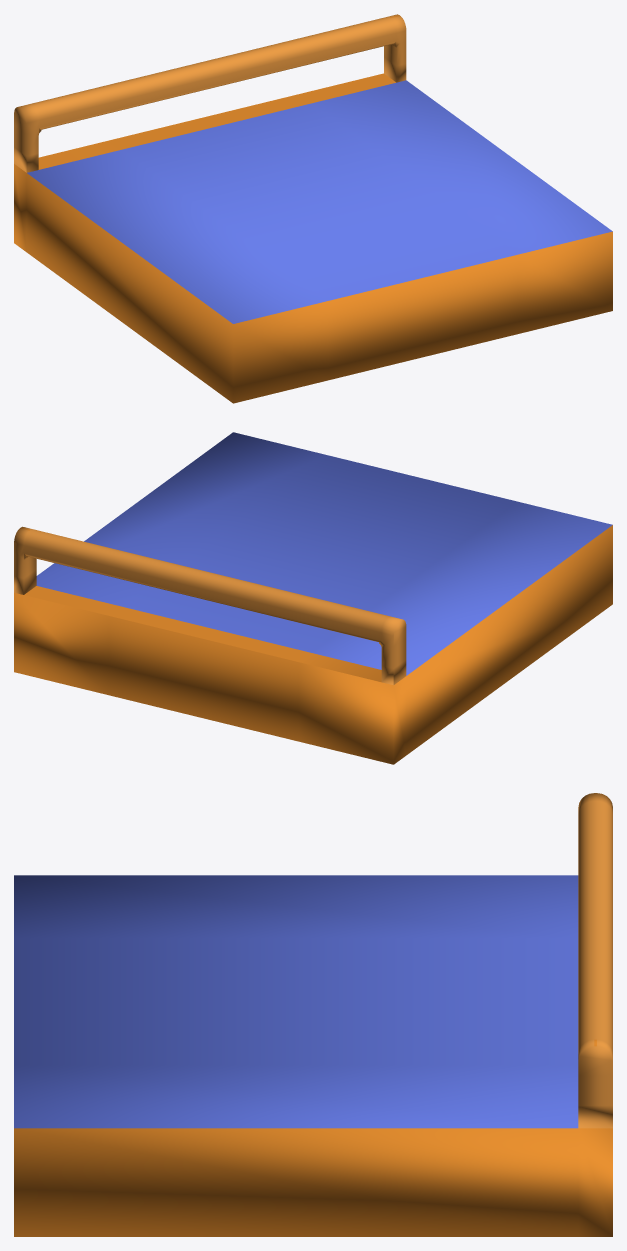
File: railing_floor_1.glb
The picture shows the model from 3 angles, top to bottom: view 1: azimuth 30°, elevation 25°; view 2: azimuth 150°, elevation 25°; view 3: azimuth 270°, elevation 25°; orthographic projection. The views are drawn at different scales.
Visible parts, largest first — view 1: Cube.002; view 2: Cube.002; view 3: Cube.002.
Part boxes in pixels (box(x1,y1,x2,y2)): Cube.002: box(14, 14, 612, 403); Cube.002: box(14, 432, 612, 764); Cube.002: box(14, 793, 612, 1236).
Bounding box in the file's own units: 2 × 0.7024 × 2.
